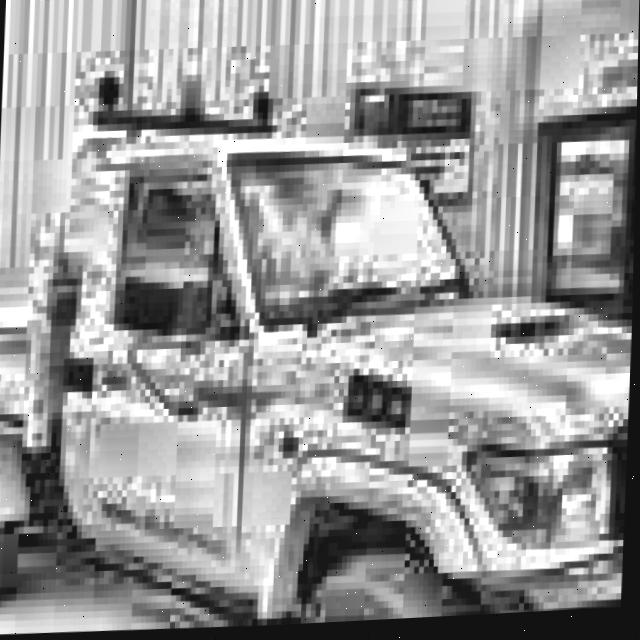light_vehicle: (0, 8, 639, 640)
